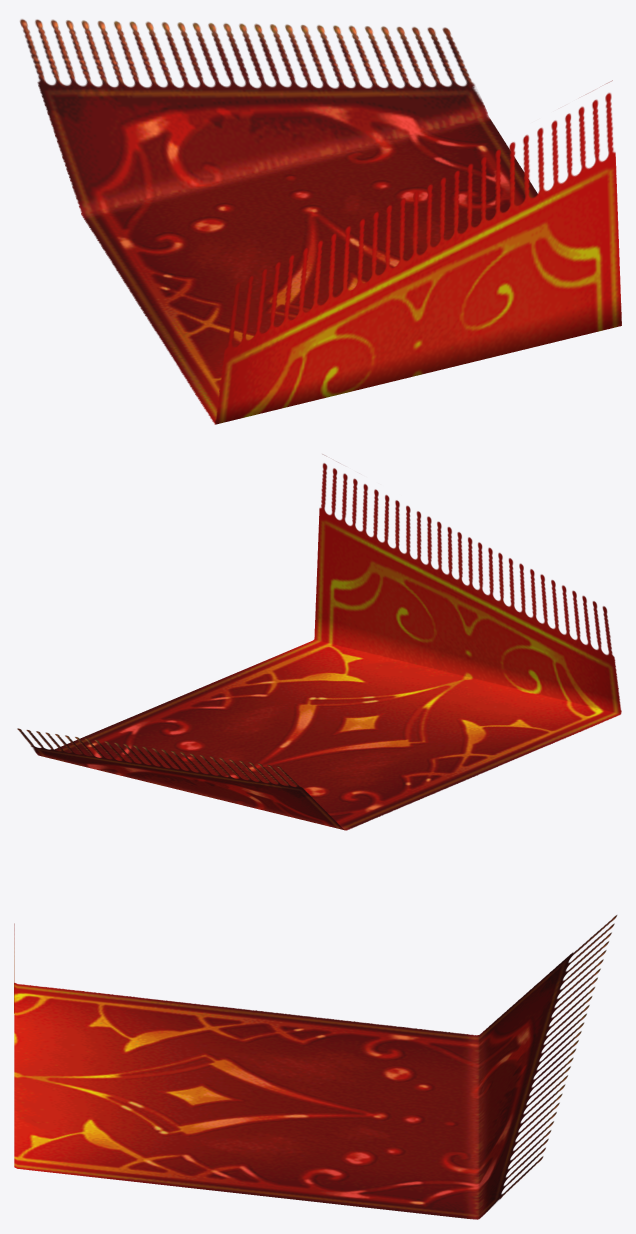
The model's file is Cloth_F.glb.
The picture shows the model from 3 angles, top to bottom: view 1: azimuth 30°, elevation 25°; view 2: azimuth 150°, elevation 25°; view 3: azimuth 270°, elevation 25°; orthographic projection. The views are drawn at different scales.
Visible parts, largest first — view 1: Cloth; view 2: Cloth; view 3: Cloth.
Boxes of the visible parts, x1,y1,x2,y2 form: Cloth: (20, 19, 621, 424); Cloth: (17, 454, 621, 830); Cloth: (14, 915, 617, 1219).
Size of the model in its own units: 8.37 by 3.81 by 9.05.
1 material, 1 textured.
